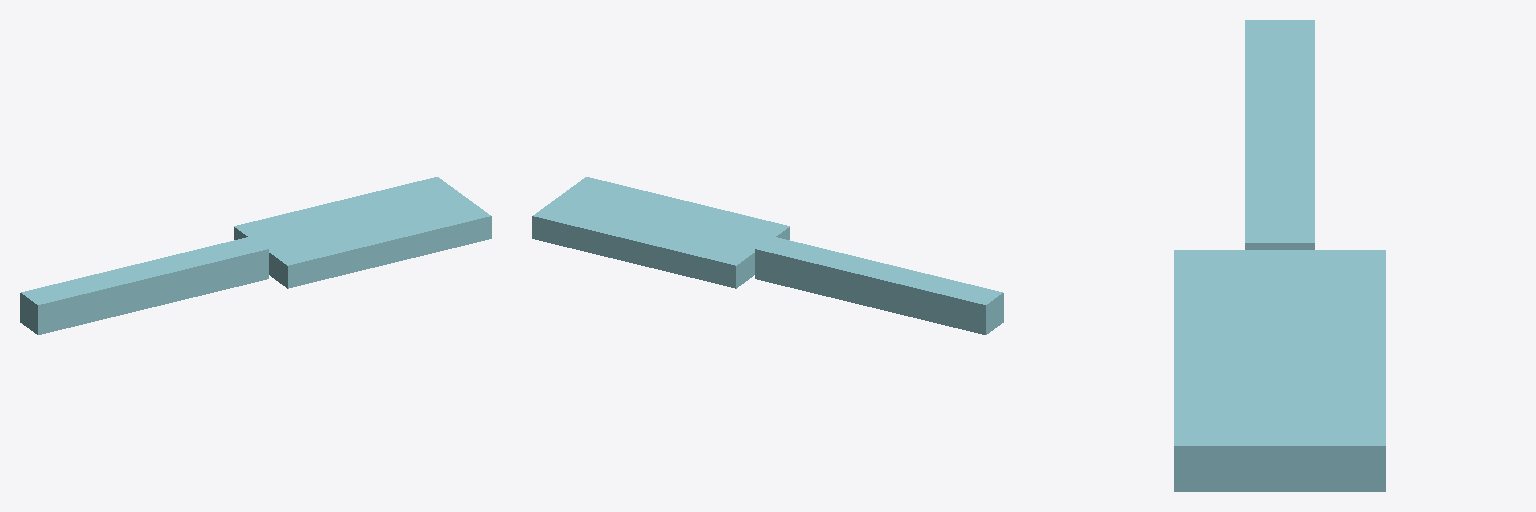
robot.urdf — cuboid_spatula_v5016:
<?xml version="1.0"?>
<robot name="cuboid_spatula_v5016">

  <link name="cuboid_spatula_v5016">
    <!-- Handle -->
    <visual>
      <origin xyz="0 0 0" rpy="0 0 0"/>
      <geometry>
        <box size="0.12328522849437062 0.016150741628931604 0.015313753305630144"/>
      </geometry>
      <material name="material">
        <color rgba="0.639 0.847 0.882 1.0"/>
      </material>
    </visual>
    <collision>
      <origin xyz="0 0 0" rpy="0 0 0"/>
      <geometry>
        <box size="0.12328522849437062 0.016150741628931604 0.015313753305630144"/>
      </geometry>
    </collision>

    <!-- Head -->
    <visual>
      <origin xyz="0.1159648728979251 0 0" rpy="0 0 0"/>
      <geometry>
        <box size="0.10864451730147959 0.049731599034026665 0.01168230669113764"/>
      </geometry>
      <material name="material">
        <color rgba="0.639 0.847 0.882 1.0"/>
      </material>
    </visual>
    <collision>
      <origin xyz="0.1159648728979251 0 0" rpy="0 0 0"/>
      <geometry>
        <box size="0.10864451730147959 0.049731599034026665 0.01168230669113764"/>
      </geometry>
    </collision>

    <inertial>
      <density value="400.0"/>
    </inertial>
  </link>

</robot>

--- What the picture shows (computed from the rendered views, not written in the file) ---
3 views of the same robot in one strip: view 1: azimuth 30°, elevation 25°; view 2: azimuth 150°, elevation 25°; view 3: azimuth 270°, elevation 25° (orthographic).
Model cuboid_spatula_v5016 with 1 links and 0 joints (none), rooted at cuboid_spatula_v5016, posed all joints at 0.
Visible links, largest first — view 1: cuboid_spatula_v5016; view 2: cuboid_spatula_v5016; view 3: cuboid_spatula_v5016.
Link boxes in pixels (left/top/right/bottom): cuboid_spatula_v5016: left=20, top=177, right=491, bottom=334; cuboid_spatula_v5016: left=532, top=177, right=1003, bottom=334; cuboid_spatula_v5016: left=1174, top=20, right=1385, bottom=491.
Size in the robot's own frame: 0.2319 by 0.0497 by 0.0153 metres.
Geometry: primitives only (box / cylinder / sphere), no mesh files.
